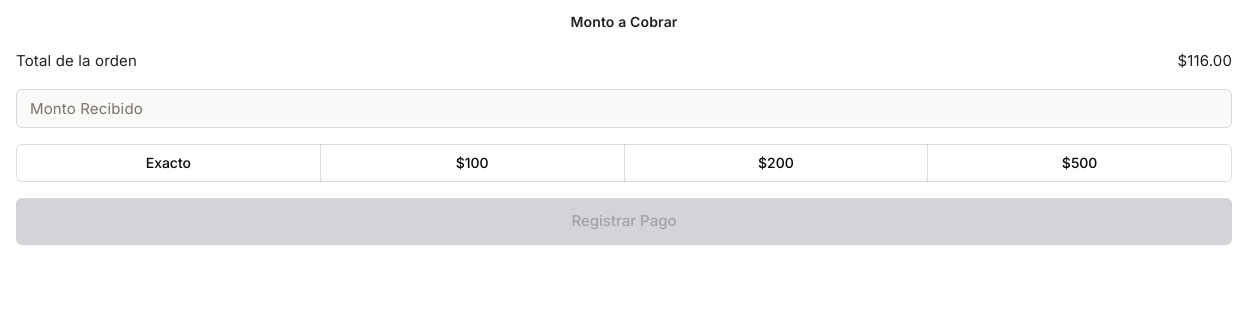
Test: PaymentForm › sets exact amount when Exacto button is clicked
Step 1. Click the button "Exacto" → (168, 163), box [16,144,321,182]
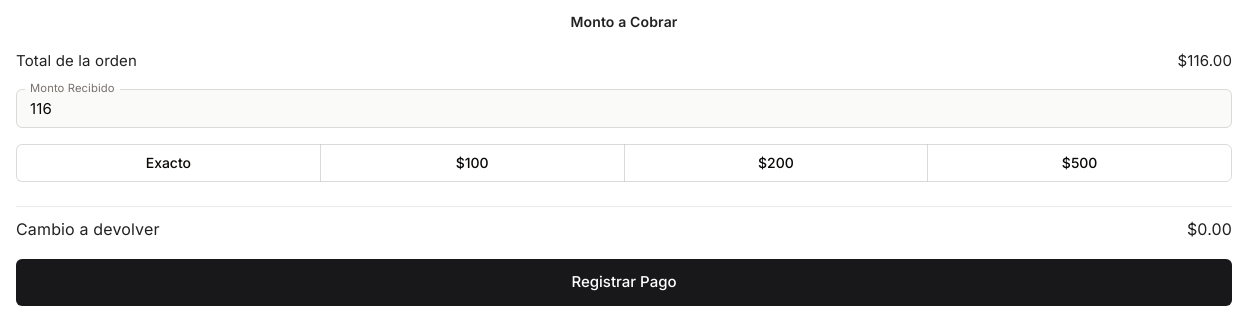
Expected: the number field labelled "Monto Recibido" holds "116", [16,89,1232,128]
